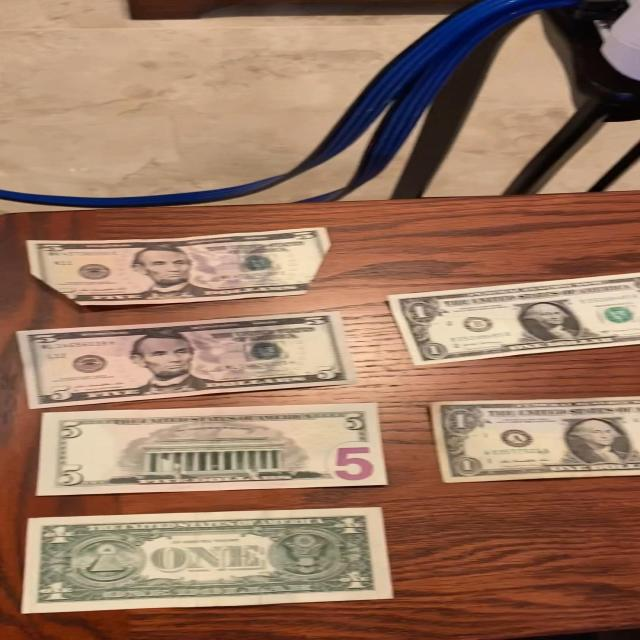1-Back: (14, 503, 402, 616)
1-Front: (382, 269, 640, 371), (420, 390, 640, 485)
5-Back: (27, 402, 390, 502)
5-Front: (15, 306, 361, 410), (21, 224, 338, 311)
